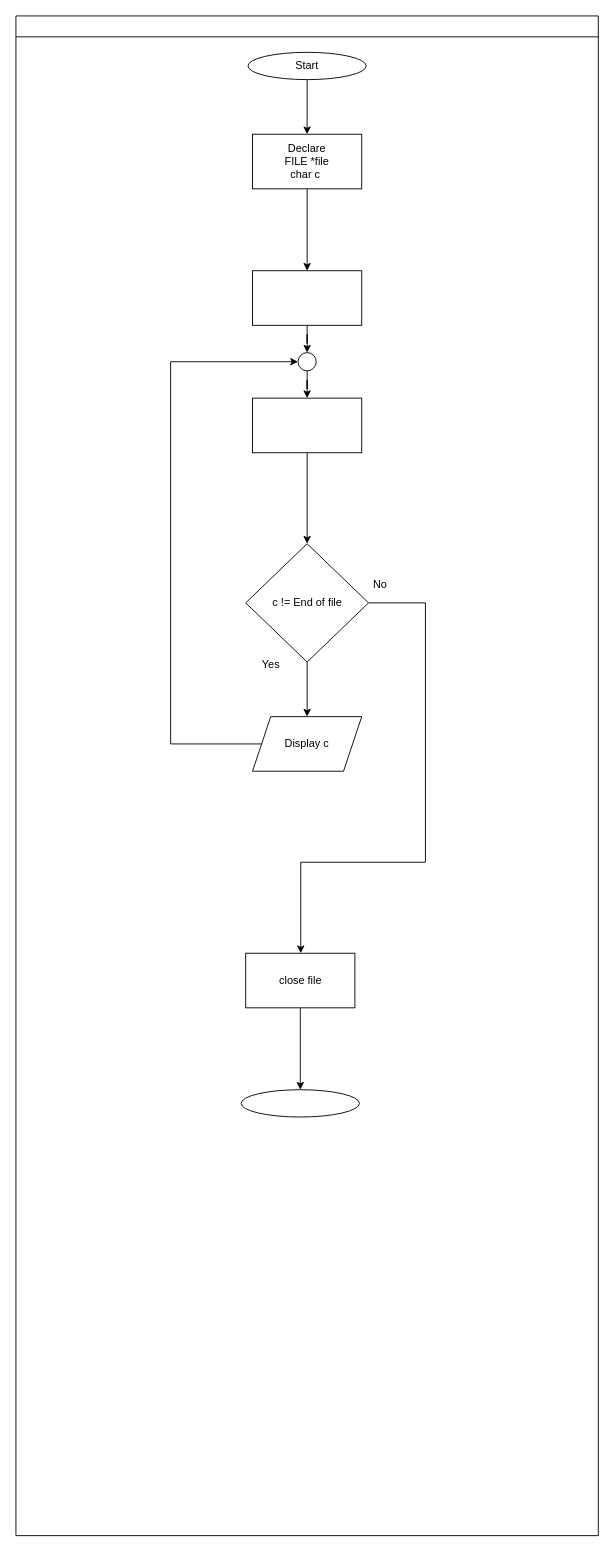
This 614x1552 diagram has some shape labels left out. Each missing label, with the box of its shape:
End: (240, 1089, 359, 1117)
Open file a15-1.txt in read mode: (252, 270, 362, 325)
read character in file a15-1.txt store in c: (252, 397, 362, 453)
